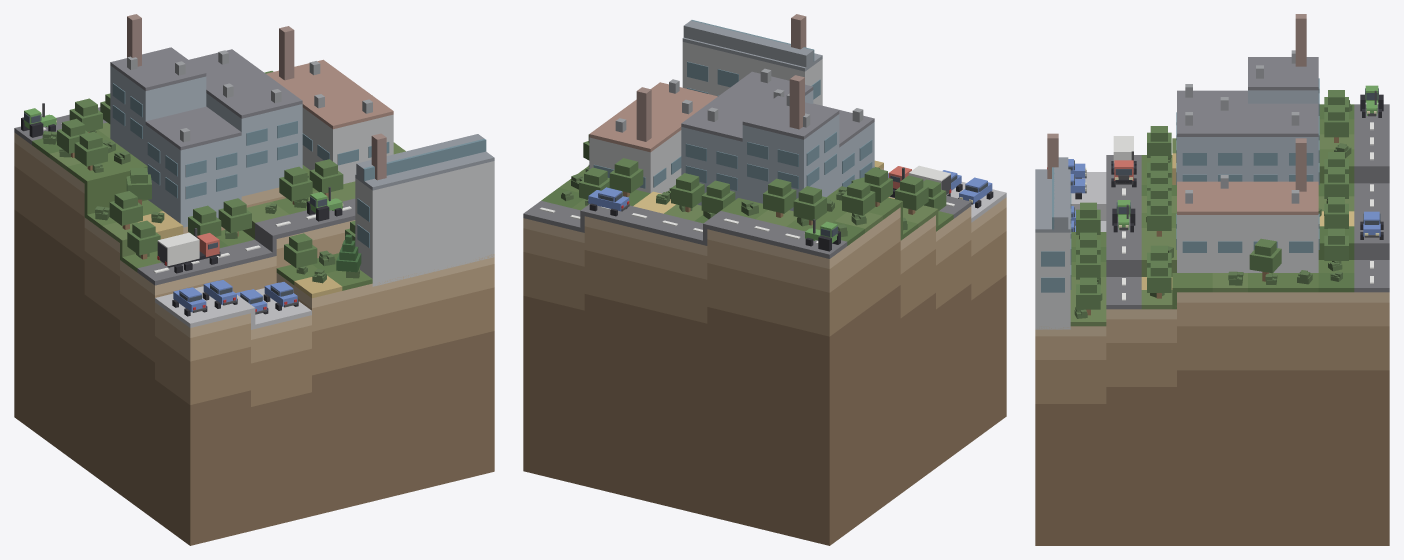
The model's file is block_11_engineered_30.glb.
3 views of the same model, side by side, from view 1: azimuth 30°, elevation 25°; view 2: azimuth 150°, elevation 25°; view 3: azimuth 270°, elevation 25° (orthographic).
Parts seen in each view (by area): view 1: Patch_LowerLeft_b12_ES, Factories_LowerLeft_b12_ES, Ground_LowerLeft_b12_ES, Roads_LowerLeft_b12_ES, Parking_LowerLeft_b12_ES, Asset_Truck.004_ES, Asset_Tree_Round.046_ES, Asset_Tree_Round.040_ES, Asset_Tree_Round.053_ES, Asset_Tree_Round.050_ES, Asset_Tree_Round.066_ES, Asset_Tree_Round.052_ES (+11 smaller); view 2: Patch_LowerLeft_b12_ES, Factories_LowerLeft_b12_ES, Roads_LowerLeft_b12_ES, Ground_LowerLeft_b12_ES, Asset_Tree_Round.034_ES, Asset_Tree_Round.031_ES, Asset_Tree_Round.030_ES, Asset_Tree_Round.033_ES, Asset_Tree_Round.038_ES, Asset_Tree_Round.046_ES, Asset_Truck.004_ES, Asset_Tree_Round.032_ES (+6 smaller); view 3: Patch_LowerLeft_b12_ES, Factories_LowerLeft_b12_ES, Roads_LowerLeft_b12_ES, Ground_LowerLeft_b12_ES, Asset_Truck.004_ES, Parking_LowerLeft_b12_ES, Asset_Tree_Round.016_ES, Asset_Tree_Round.056_ES, Asset_Tree_Round.031_ES, Asset_Tree_Round.054_ES, Asset_Tree_Round.069_ES, Asset_Tree_Round.035_ES (+8 smaller).
Boxes of the visible parts, bbox=[...] form: Patch_LowerLeft_b12_ES: bbox=[14, 132, 494, 545]; Factories_LowerLeft_b12_ES: bbox=[110, 14, 494, 286]; Ground_LowerLeft_b12_ES: bbox=[32, 122, 405, 298]; Roads_LowerLeft_b12_ES: bbox=[14, 107, 355, 285]; Parking_LowerLeft_b12_ES: bbox=[155, 286, 311, 329]; Asset_Truck.004_ES: bbox=[157, 228, 220, 273]; Asset_Tree_Round.046_ES: bbox=[109, 191, 142, 229]; Asset_Tree_Round.040_ES: bbox=[74, 131, 107, 170]; Asset_Tree_Round.053_ES: bbox=[279, 166, 312, 204]; Asset_Tree_Round.050_ES: bbox=[127, 220, 160, 259]; Asset_Tree_Round.066_ES: bbox=[284, 233, 317, 268]; Asset_Tree_Round.052_ES: bbox=[218, 198, 251, 236]; Patch_LowerLeft_b12_ES: bbox=[523, 167, 1006, 545]; Factories_LowerLeft_b12_ES: bbox=[589, 14, 874, 211]; Roads_LowerLeft_b12_ES: bbox=[523, 196, 971, 258]; Ground_LowerLeft_b12_ES: bbox=[541, 160, 953, 245]; Asset_Tree_Round.034_ES: bbox=[609, 158, 643, 197]; Asset_Tree_Round.031_ES: bbox=[763, 178, 796, 217]; Asset_Tree_Round.030_ES: bbox=[793, 186, 826, 225]; Asset_Tree_Round.033_ES: bbox=[671, 173, 704, 212]; Asset_Tree_Round.038_ES: bbox=[842, 180, 875, 215]; Asset_Tree_Round.046_ES: bbox=[895, 175, 928, 214]; Asset_Truck.004_ES: bbox=[888, 165, 951, 197]; Asset_Tree_Round.032_ES: bbox=[701, 180, 735, 213]; Patch_LowerLeft_b12_ES: bbox=[1035, 292, 1389, 545]; Factories_LowerLeft_b12_ES: bbox=[1035, 14, 1319, 329]; Roads_LowerLeft_b12_ES: bbox=[1106, 104, 1389, 309]; Ground_LowerLeft_b12_ES: bbox=[1070, 104, 1354, 326]; Asset_Truck.004_ES: bbox=[1111, 136, 1136, 187]; Parking_LowerLeft_b12_ES: bbox=[1071, 172, 1106, 231]; Asset_Tree_Round.016_ES: bbox=[1249, 238, 1281, 281]; Asset_Tree_Round.056_ES: bbox=[1147, 260, 1171, 298]; Asset_Tree_Round.031_ES: bbox=[1324, 105, 1348, 142]; Asset_Tree_Round.054_ES: bbox=[1147, 199, 1171, 236]; Asset_Tree_Round.069_ES: bbox=[1076, 277, 1100, 315]; Asset_Tree_Round.035_ES: bbox=[1324, 228, 1348, 260].
Size of the model in its own units: 9.52 by 12.34 by 9.5.
